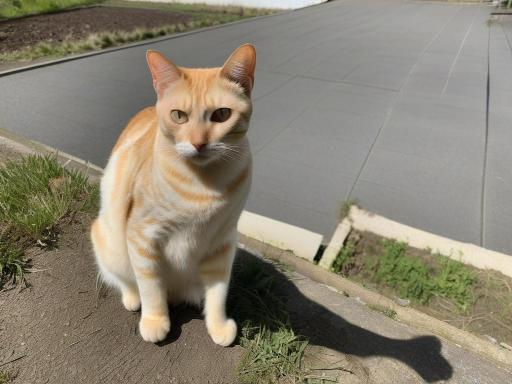cat_sitting: (91, 44, 256, 346)
